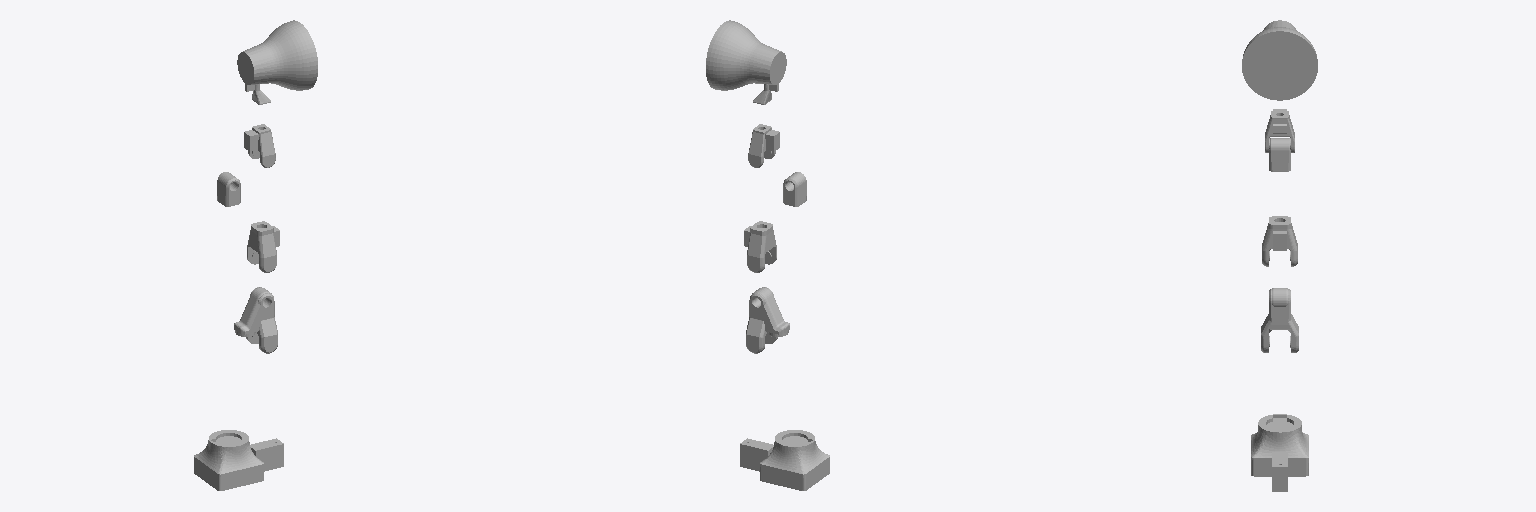
URDF robot description (arm_urdf):
<?xml version="1.0" encoding="utf-8"?>
<!-- This URDF was automatically created by SolidWorks to URDF Exporter! Originally created by [author] ([email redacted]) 
     Commit Version: 1.5.1-0-g916b5db  Build Version: 1.5.7152.31018
     For more information, please see http://wiki.ros.org/sw_urdf_exporter -->
<robot
  name="arm_urdf">
  <link
    name="base_link">
    <inertial>
      <origin
        xyz="0.0103670441692716 -4.89047614708097E-08 0.0327236218479231"
        rpy="0 0 0" />
      <mass
        value="0.78639641308392" />
      <inertia
        ixx="0.000895494113504485"
        ixy="-1.76569785967633E-09"
        ixz="6.01414915525681E-05"
        iyy="0.00152065890412314"
        iyz="6.32161180915111E-10"
        izz="0.00171422853342945" />
    </inertial>
    <visual>
      <origin
        xyz="0 0 0"
        rpy="0 0 0" />
      <geometry>
        <mesh
          filename="package://arm_urdf/meshes/base_link.STL" />
      </geometry>
      <material
        name="">
        <color
          rgba="0.745098039215686 0.745098039215686 0.745098039215686 1" />
      </material>
    </visual>
    <collision>
      <origin
        xyz="0 0 0"
        rpy="0 0 0" />
      <geometry>
        <mesh
          filename="package://arm_urdf/meshes/base_link.STL" />
      </geometry>
    </collision>
  </link>
  <link
    name="Link1">
    <inertial>
      <origin
        xyz="-0.016586942269416 4.9988300519491E-05 -0.11545550422615"
        rpy="0 0 0" />
      <mass
        value="0.121759656689666" />
      <inertia
        ixx="7.38485956533475E-05"
        ixy="-1.53219791509154E-11"
        ixz="-3.02831795140831E-05"
        iyy="9.56535793858089E-05"
        iyz="-2.35535817942853E-11"
        izz="5.1643210241122E-05" />
    </inertial>
    <visual>
      <origin
        xyz="0 0 0"
        rpy="0 0 0" />
      <geometry>
        <mesh
          filename="package://arm_urdf/meshes/Link1.STL" />
      </geometry>
      <material
        name="">
        <color
          rgba="0.745098039215686 0.745098039215686 0.745098039215686 1" />
      </material>
    </visual>
    <collision>
      <origin
        xyz="0 0 0"
        rpy="0 0 0" />
      <geometry>
        <mesh
          filename="package://arm_urdf/meshes/Link1.STL" />
      </geometry>
    </collision>
  </link>
  <joint
    name="Joint1"
    type="revolute">
    <origin
      xyz="0.037707 -5E-05 0.22817"
      rpy="0 0 0" />
    <parent
      link="base_link" />
    <child
      link="Link1" />
    <axis
      xyz="0 0 -1" />
    <limit
      lower="0"
      upper="6.28"
      effort="0"
      velocity="0" />
  </joint>
  <link
    name="Link2">
    <inertial>
      <origin
        xyz="-0.000541025630608628 5.56776925486374E-05 0.0415387428466068"
        rpy="0 0 0" />
      <mass
        value="0.164059961594958" />
      <inertia
        ixx="0.00021226381686105"
        ixy="-4.93600634781879E-09"
        ixz="-1.38904365806391E-06"
        iyy="0.00017369357579552"
        iyz="3.79435727355563E-07"
        izz="7.7824356818603E-05" />
    </inertial>
    <visual>
      <origin
        xyz="0 0 0"
        rpy="0 0 0" />
      <geometry>
        <mesh
          filename="package://arm_urdf/meshes/Link2.STL" />
      </geometry>
      <material
        name="">
        <color
          rgba="0.745098039215686 0.745098039215686 0.745098039215686 1" />
      </material>
    </visual>
    <collision>
      <origin
        xyz="0 0 0"
        rpy="0 0 0" />
      <geometry>
        <mesh
          filename="package://arm_urdf/meshes/Link2.STL" />
      </geometry>
    </collision>
  </link>
  <joint
    name="Joint2"
    type="revolute">
    <origin
      xyz="0 5E-05 -0.087"
      rpy="0 0 0" />
    <parent
      link="Link1" />
    <child
      link="Link2" />
    <axis
      xyz="0 1 0" />
    <limit
      lower="0"
      upper="6.28"
      effort="0"
      velocity="0" />
  </joint>
  <link
    name="Link3">
    <inertial>
      <origin
        xyz="0.00292187305386705 -6.85363283402414E-05 0.0331811677846475"
        rpy="0 0 0" />
      <mass
        value="0.133281294923395" />
      <inertia
        ixx="0.000103614550294055"
        ixy="-2.66954052688133E-08"
        ixz="-3.10738396849019E-06"
        iyy="8.3610745728922E-05"
        iyz="-3.03094614458104E-07"
        izz="6.37142105116064E-05" />
    </inertial>
    <visual>
      <origin
        xyz="0 0 0"
        rpy="0 0 0" />
      <geometry>
        <mesh
          filename="package://arm_urdf/meshes/Link3.STL" />
      </geometry>
      <material
        name="">
        <color
          rgba="0.745098039215686 0.745098039215686 0.745098039215686 1" />
      </material>
    </visual>
    <collision>
      <origin
        xyz="0 0 0"
        rpy="0 0 0" />
      <geometry>
        <mesh
          filename="package://arm_urdf/meshes/Link3.STL" />
      </geometry>
    </collision>
  </link>
  <joint
    name="Joint3"
    type="revolute">
    <origin
      xyz="0 -5E-05 0.087"
      rpy="0 0 0" />
    <parent
      link="Link2" />
    <child
      link="Link3" />
    <axis
      xyz="0 1 0" />
    <limit
      lower="0"
      upper="6.28"
      effort="0"
      velocity="0" />
  </joint>
  <link
    name="Link4">
    <inertial>
      <origin
        xyz="-6.93889390390723E-18 1.6073207082792E-13 0.0230502436889772"
        rpy="0 0 0" />
      <mass
        value="0.0616446065967099" />
      <inertia
        ixx="2.35629768781271E-05"
        ixy="2.06327010679908E-10"
        ixz="2.33971628696663E-22"
        iyy="2.16264848632999E-05"
        iyz="-2.66652328134555E-16"
        izz="1.4527300665041E-05" />
    </inertial>
    <visual>
      <origin
        xyz="0 0 0"
        rpy="0 0 0" />
      <geometry>
        <mesh
          filename="package://arm_urdf/meshes/Link4.STL" />
      </geometry>
      <material
        name="">
        <color
          rgba="0.745098039215686 0.745098039215686 0.745098039215686 1" />
      </material>
    </visual>
    <collision>
      <origin
        xyz="0 0 0"
        rpy="0 0 0" />
      <geometry>
        <mesh
          filename="package://arm_urdf/meshes/Link4.STL" />
      </geometry>
    </collision>
  </link>
  <joint
    name="Joint4"
    type="revolute">
    <origin
      xyz="0 0 0.0712"
      rpy="0 0 -3.1416" />
    <parent
      link="Link3" />
    <child
      link="Link4" />
    <axis
      xyz="0 0 1" />
    <limit
      lower="0"
      upper="6.28"
      effort="0"
      velocity="0" />
  </joint>
  <link
    name="Link5">
    <inertial>
      <origin
        xyz="-0.00540369889878292 0.000111388474332555 0.0298563406822311"
        rpy="0 0 0" />
      <mass
        value="0.082003985184141" />
      <inertia
        ixx="4.25538356064228E-05"
        ixy="-4.93618679407714E-08"
        ixz="3.44134827995119E-06"
        iyy="3.79923819156701E-05"
        iyz="2.72721651106617E-07"
        izz="3.14025133057499E-05" />
    </inertial>
    <visual>
      <origin
        xyz="0 0 0"
        rpy="0 0 0" />
      <geometry>
        <mesh
          filename="package://arm_urdf/meshes/Link5.STL" />
      </geometry>
      <material
        name="">
        <color
          rgba="0.745098039215686 0.745098039215686 0.745098039215686 1" />
      </material>
    </visual>
    <collision>
      <origin
        xyz="0 0 0"
        rpy="0 0 0" />
      <geometry>
        <mesh
          filename="package://arm_urdf/meshes/Link5.STL" />
      </geometry>
    </collision>
  </link>
  <joint
    name="Joint5"
    type="revolute">
    <origin
      xyz="0 0 0.0415"
      rpy="0 0 3.1416" />
    <parent
      link="Link4" />
    <child
      link="Link5" />
    <axis
      xyz="0 1 0" />
    <limit
      lower="0"
      upper="6.28"
      effort="0"
      velocity="0" />
  </joint>
  <link
    name="EE">
    <inertial>
      <origin
        xyz="0.0421461469869609 -4.95936236903502E-09 0.0778740689030944"
        rpy="0 0 0" />
      <mass
        value="1.07322722870269" />
      <inertia
        ixx="0.00185339937127512"
        ixy="-5.1236474703124E-09"
        ixz="-5.92986358897839E-05"
        iyy="0.00219441701048786"
        iyz="-3.14292637718522E-10"
        izz="0.00211751149042562" />
    </inertial>
    <visual>
      <origin
        xyz="0 0 0"
        rpy="0 0 0" />
      <geometry>
        <mesh
          filename="package://arm_urdf/meshes/EE.STL" />
      </geometry>
      <material
        name="">
        <color
          rgba="0.745098039215686 0.745098039215686 0.745098039215686 1" />
      </material>
    </visual>
    <collision>
      <origin
        xyz="0 0 0"
        rpy="0 0 0" />
      <geometry>
        <mesh
          filename="package://arm_urdf/meshes/EE.STL" />
      </geometry>
    </collision>
  </link>
  <joint
    name="Joint6"
    type="revolute">
    <origin
      xyz="0 0 0.05975"
      rpy="0 0 0" />
    <parent
      link="Link5" />
    <child
      link="EE" />
    <axis
      xyz="0 0 1" />
    <limit
      lower="0"
      upper="6.28"
      effort="0"
      velocity="0" />
  </joint>
</robot>

--- What the picture shows (computed from the rendered views, not written in the file) ---
The picture shows the robot from 3 angles, left to right: view 1: azimuth 30°, elevation 25°; view 2: azimuth 150°, elevation 25°; view 3: azimuth 270°, elevation 25°; orthographic projection.
Model arm_urdf with 7 links and 6 joints (6 revolute), rooted at base_link, posed every joint at zero.
Visible links, largest first — view 1: EE, base_link, Link3, Link1, Link5, Link2, Link4; view 2: EE, base_link, Link3, Link2, Link5, Link1, Link4; view 3: EE, base_link, Link3, Link2, Link5, Link4.
Link boxes in pixels (left/top/right/bottom): EE: left=237, top=20, right=317, bottom=104; base_link: left=194, top=430, right=283, bottom=490; Link3: left=247, top=221, right=279, bottom=272; Link1: left=234, top=287, right=272, bottom=336; Link5: left=244, top=124, right=275, bottom=167; Link2: left=246, top=287, right=277, bottom=353; Link4: left=217, top=172, right=240, bottom=206; EE: left=706, top=20, right=786, bottom=104; base_link: left=740, top=430, right=829, bottom=490; Link3: left=744, top=221, right=776, bottom=272; Link2: left=746, top=287, right=777, bottom=353; Link5: left=748, top=124, right=779, bottom=167; Link1: left=752, top=287, right=789, bottom=336; Link4: left=783, top=172, right=806, bottom=206; EE: left=1242, top=20, right=1317, bottom=100; base_link: left=1251, top=414, right=1308, bottom=491; Link3: left=1262, top=216, right=1297, bottom=266; Link2: left=1261, top=289, right=1298, bottom=352; Link5: left=1265, top=109, right=1294, bottom=152; Link4: left=1269, top=138, right=1290, bottom=171.
Bounding box of the posed robot: 0.2159 × 0.1399 × 0.9501 m (x, y, z).
Meshes: 7 distinct files referenced, 7 mesh visuals loaded (7 binary STL).